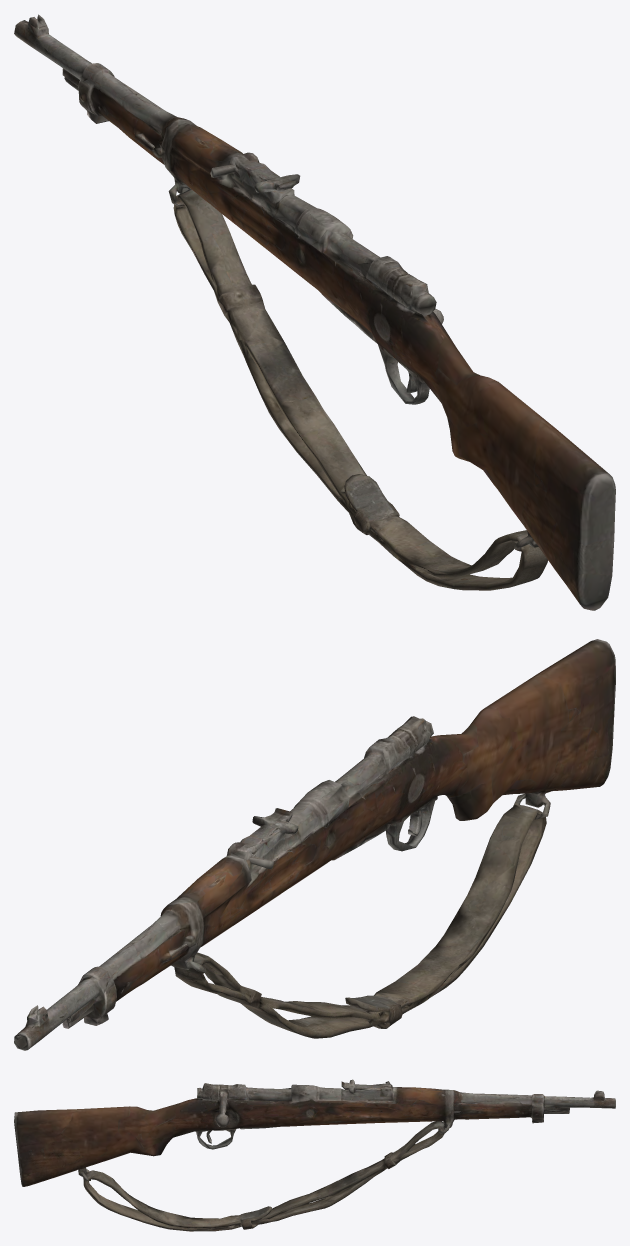
The model's file is rifle.64a1358e.glb.
3 views of the same model, one above another, from view 1: azimuth 30°, elevation 25°; view 2: azimuth 150°, elevation 25°; view 3: azimuth 270°, elevation 25° (orthographic). The views are drawn at different scales.
Visible parts, largest first — view 1: item; view 2: item; view 3: item.
Boxes of the visible parts, left/top/right/bottom form: item: left=14, top=14, right=615, bottom=610; item: left=14, top=639, right=615, bottom=1050; item: left=14, top=1079, right=615, bottom=1231.
Size of the model in its own units: 0.0773 by 0.2936 by 1.1.
Materials: 1 (1 with a texture image).
